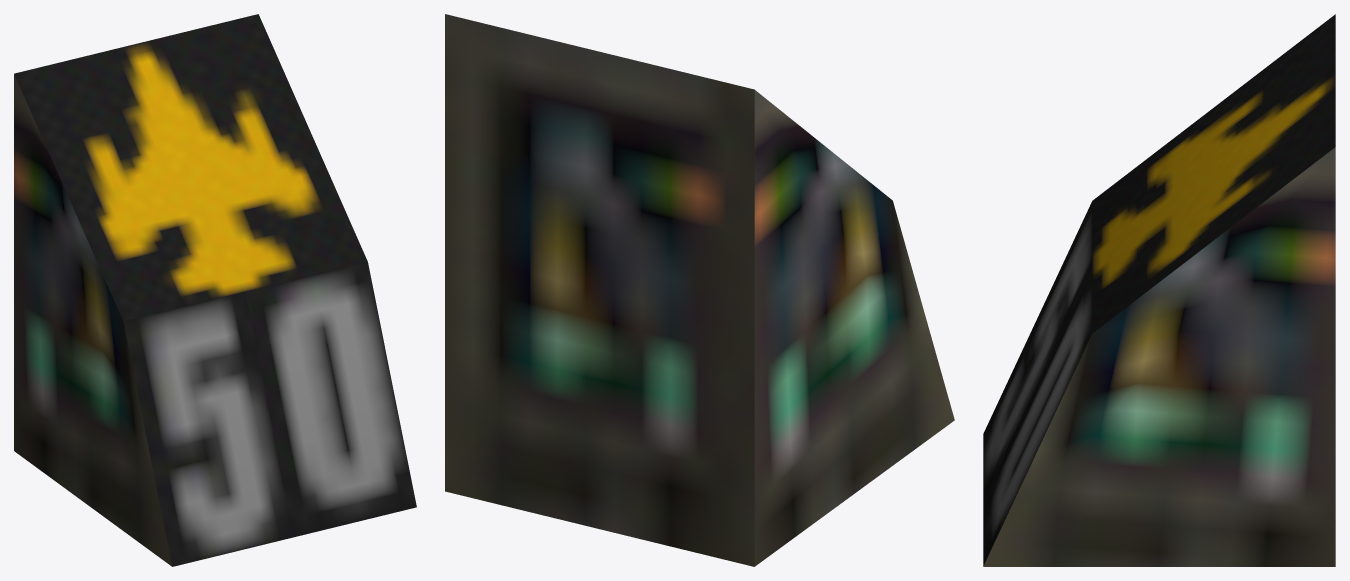
The model's file is prop-035.glb.
3 renders of one model, left to right at view 1: azimuth 30°, elevation 25°; view 2: azimuth 150°, elevation 25°; view 3: azimuth 270°, elevation 25°, orthographic. The views are drawn at different scales.
Visible parts, largest first — view 1: root; view 2: root; view 3: root.
Boxes of the visible parts, bbox=[...] form: root: bbox=[14, 14, 416, 566]; root: bbox=[445, 14, 954, 566]; root: bbox=[983, 14, 1335, 566].
Size of the model in its own units: 0.6582 by 0.9707 by 0.7383.
1 material, 1 textured.
